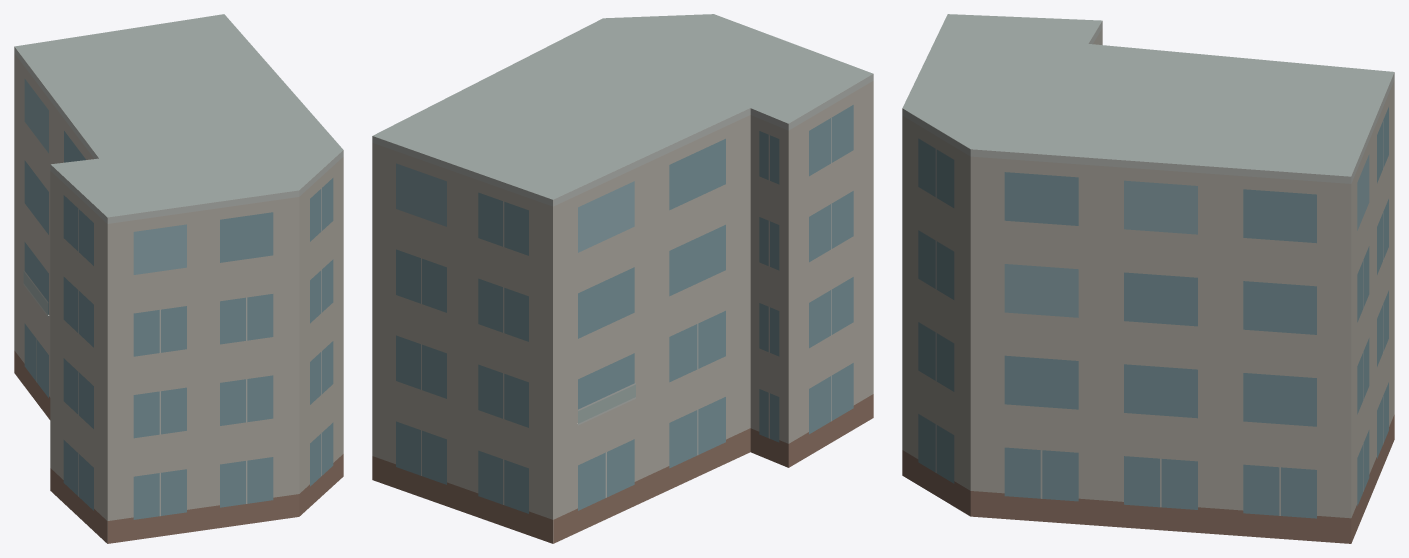
Rendered from survey-upis-33012754.glb.
3 views of the same model, side by side, from view 1: azimuth 30°, elevation 25°; view 2: azimuth 150°, elevation 25°; view 3: azimuth 270°, elevation 25° (orthographic). The views are drawn at different scales.
Parts seen in each view (by area): view 1: survey-upis-33012754.tmp; view 2: survey-upis-33012754.tmp; view 3: survey-upis-33012754.tmp.
Part boxes in pixels (left/top/right/bottom): survey-upis-33012754.tmp: left=14, top=14, right=343, bottom=543; survey-upis-33012754.tmp: left=372, top=14, right=873, bottom=543; survey-upis-33012754.tmp: left=902, top=14, right=1394, bottom=543.
Size of the model in its own units: 11.69 by 12.3 by 14.95.
